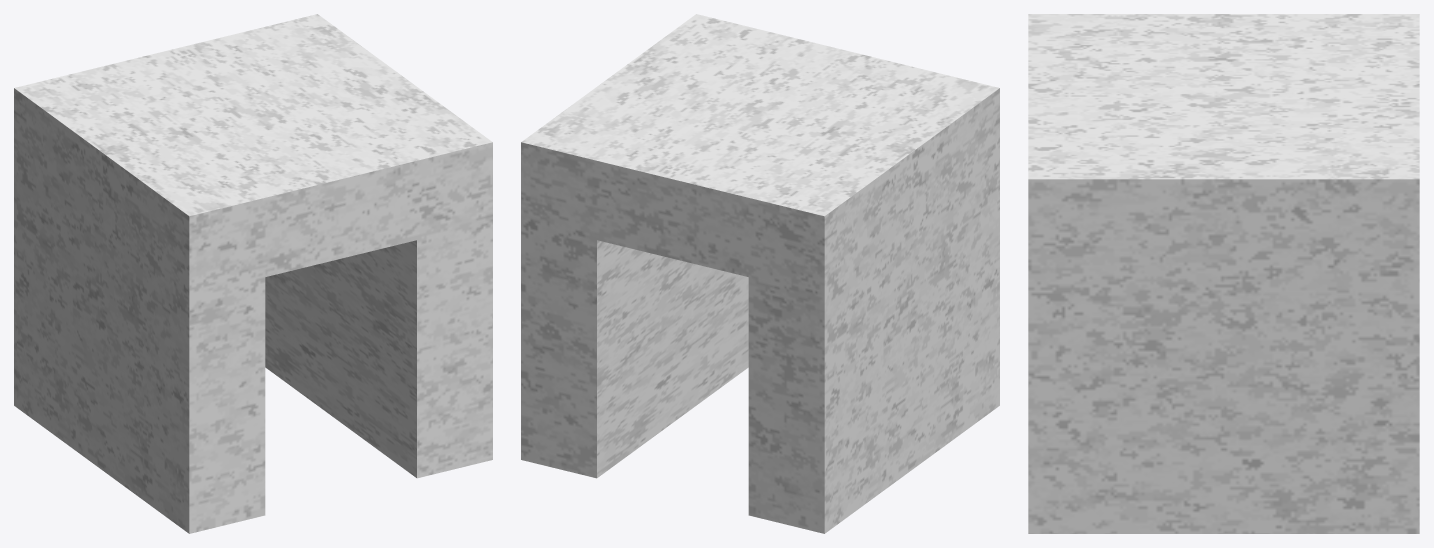
The model's file is internal_hall.obj.
3 renders of one model, left to right at view 1: azimuth 30°, elevation 25°; view 2: azimuth 150°, elevation 25°; view 3: azimuth 270°, elevation 25°, orthographic. The views are drawn at different scales.
Parts seen in each view (by area): view 1: internal_hall.002; view 2: internal_hall.002; view 3: internal_hall.002.
Boxes of the visible parts, <box> form: internal_hall.002: <box>14,14,492,533</box>; internal_hall.002: <box>521,14,999,533</box>; internal_hall.002: <box>1028,14,1419,533</box>.
Bounding box in the file's own units: 4 × 4 × 4.
